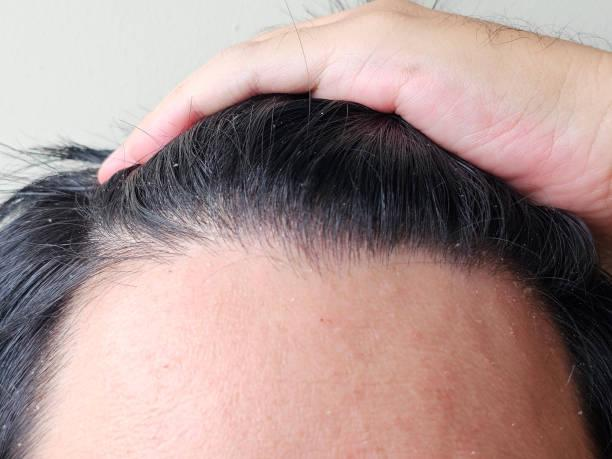dandruff: (493, 249, 513, 269), (164, 156, 187, 173), (27, 401, 47, 417), (449, 238, 467, 255), (312, 105, 331, 121), (189, 207, 205, 225), (12, 436, 25, 453), (574, 404, 585, 421), (267, 121, 282, 133), (43, 213, 55, 227)
